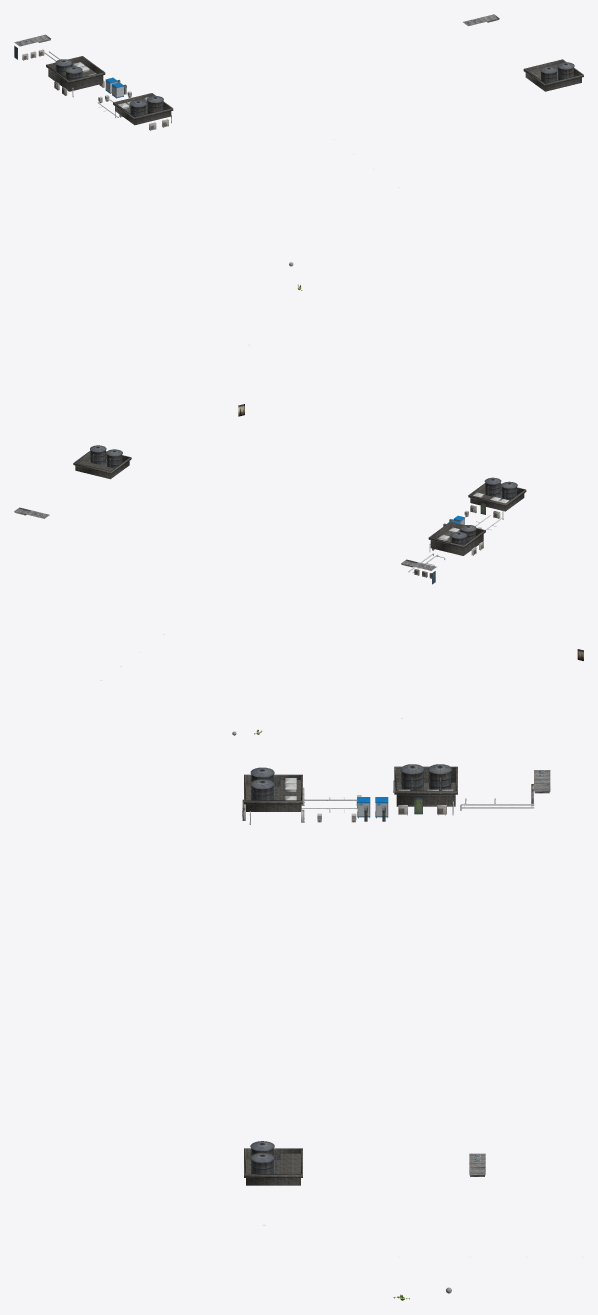
File: level1.glb
3 renders of one model, top to bottom at view 1: azimuth 30°, elevation 25°; view 2: azimuth 150°, elevation 25°; view 3: azimuth 270°, elevation 25°, orthographic. The views are drawn at different scales.
Parts seen in each view (by area): view 1: us03Bldg065.Shape_Rooftop2_0, us03Bldg065.Shape_WaterTower1_0, us03Bldg063.Shape_Rooftop2_0, us03Bldg063.Shape_WaterTower1_0; view 2: us03Bldg065.Shape_Rooftop2_0, us03Bldg065.Shape_WaterTower1_0, us03Bldg063.Shape_Rooftop2_0, us03Bldg063.Shape_WaterTower1_0, us03Bldg065.Shape_RoofVents_0; view 3: us03Bldg065.Shape_Rooftop2_0, us03Bldg065.Shape_WaterTower1_0, us03Bldg063.Shape_Rooftop2_0, us03Bldg065.Shape_RoofVents_0, us03Bldg063.Shape_WaterTower1_0.
Part boxes in pixels (x1=…): us03Bldg065.Shape_Rooftop2_0: x1=46, y1=56, x2=173, y2=125; us03Bldg065.Shape_WaterTower1_0: x1=55, y1=59, x2=163, y2=116; us03Bldg063.Shape_Rooftop2_0: x1=523, y1=59, x2=583, y2=91; us03Bldg063.Shape_WaterTower1_0: x1=540, y1=62, x2=574, y2=83; us03Bldg065.Shape_Rooftop2_0: x1=428, y1=483, x2=526, y2=555; us03Bldg065.Shape_WaterTower1_0: x1=450, y1=477, x2=517, y2=545; us03Bldg063.Shape_Rooftop2_0: x1=73, y1=450, x2=131, y2=479; us03Bldg063.Shape_WaterTower1_0: x1=90, y1=445, x2=122, y2=468; us03Bldg065.Shape_RoofVents_0: x1=408, y1=492, x2=509, y2=573; us03Bldg065.Shape_Rooftop2_0: x1=244, y1=766, x2=457, y2=811; us03Bldg065.Shape_WaterTower1_0: x1=250, y1=764, x2=452, y2=800; us03Bldg063.Shape_Rooftop2_0: x1=244, y1=1148, x2=302, y2=1185; us03Bldg065.Shape_RoofVents_0: x1=249, y1=778, x2=534, y2=824; us03Bldg063.Shape_WaterTower1_0: x1=250, y1=1141, x2=276, y2=1173.
Size of the model in its own units: 9383 by 5367 by 7157.
Materials: 28 (18 with a texture image).
